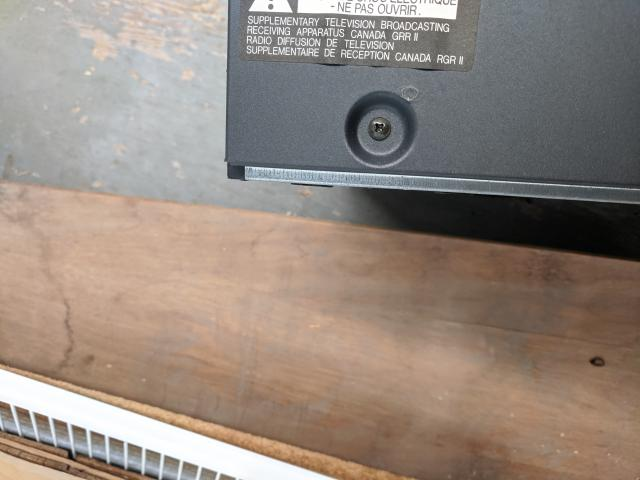CRS: (369, 114, 393, 141)
